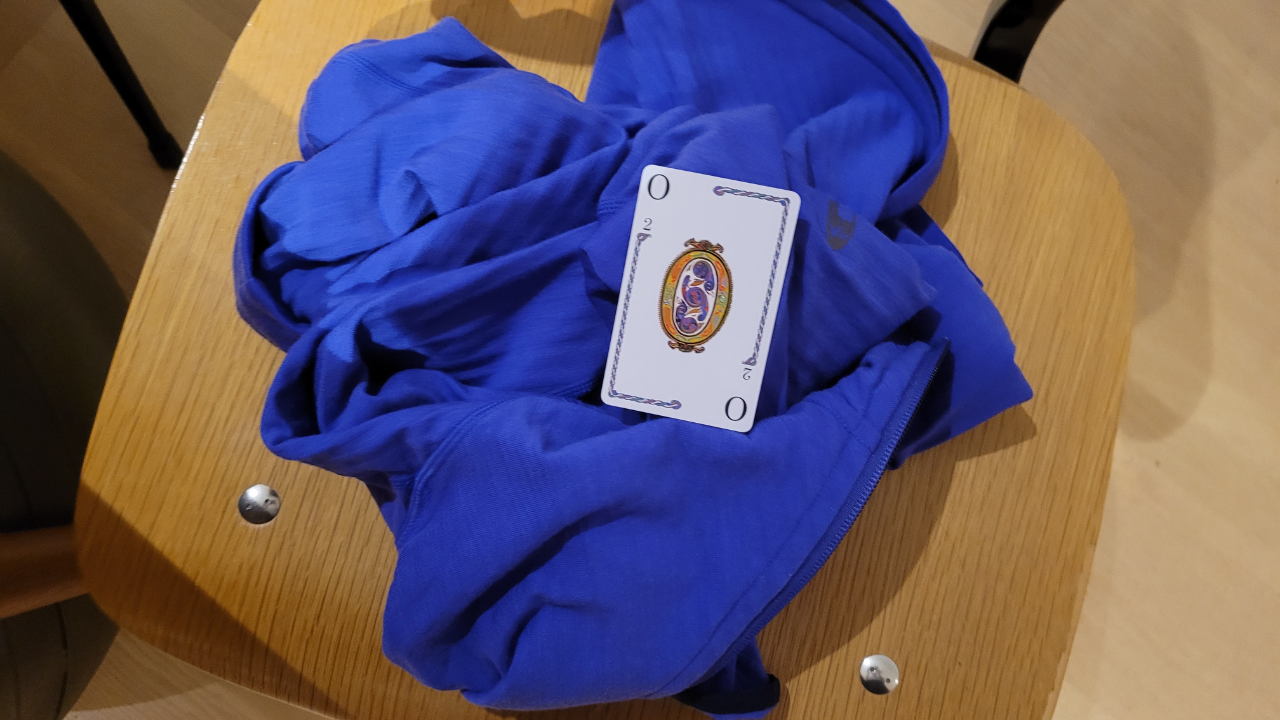quiddler_card: (595, 159, 806, 437)
